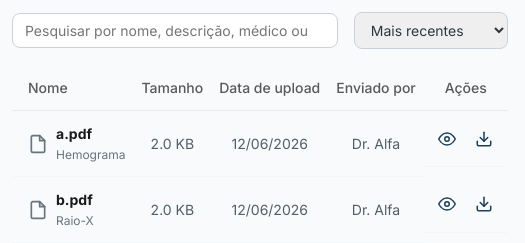
it: FilesTable — busca inclui descrição › filtra arquivos pela descrição digitada
The width and height of the screenshot is (525, 243).
In the search field named "pesquisar arquivos": (175, 30) [12,13,338,48], type "hemograma"
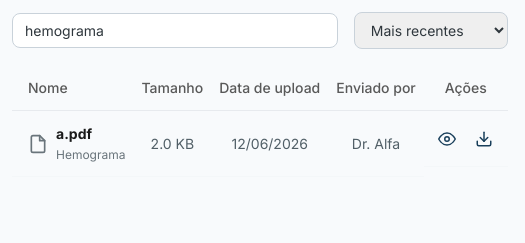
Check: the text "Hemograma" is shown, box [56,146,126,164]
Check: the text "Raio-X" is gone
